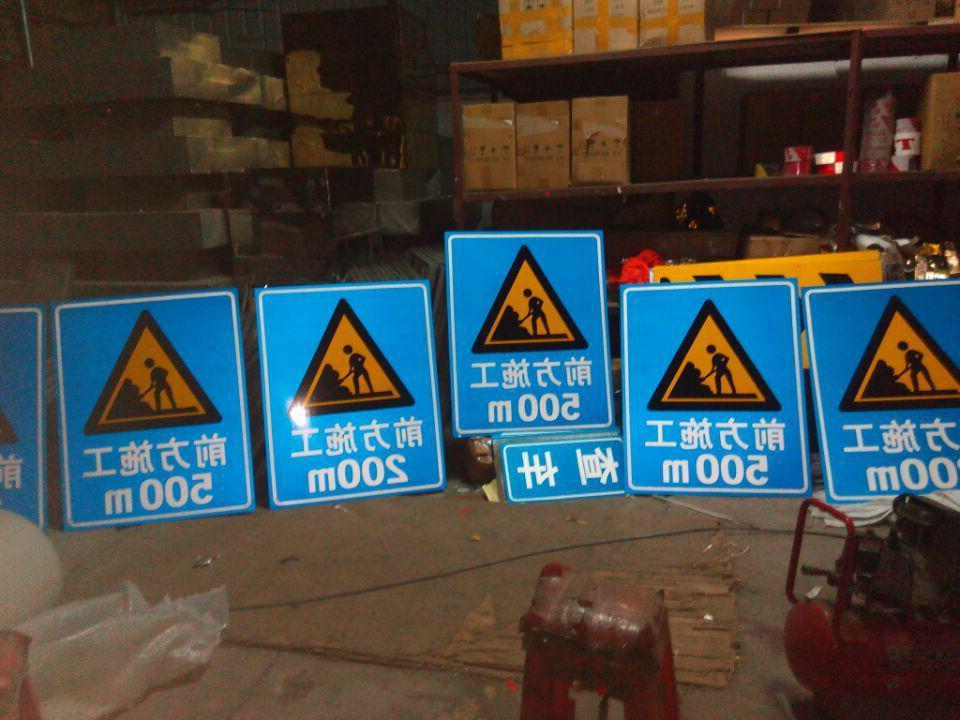sign: (54, 290, 240, 524), (623, 280, 795, 494), (261, 289, 438, 494), (448, 229, 609, 432), (808, 287, 958, 499)
